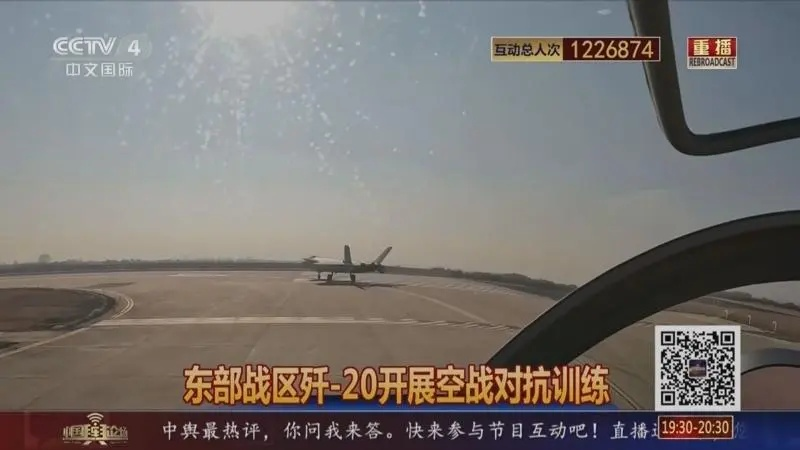J20: (295, 244, 402, 282)
